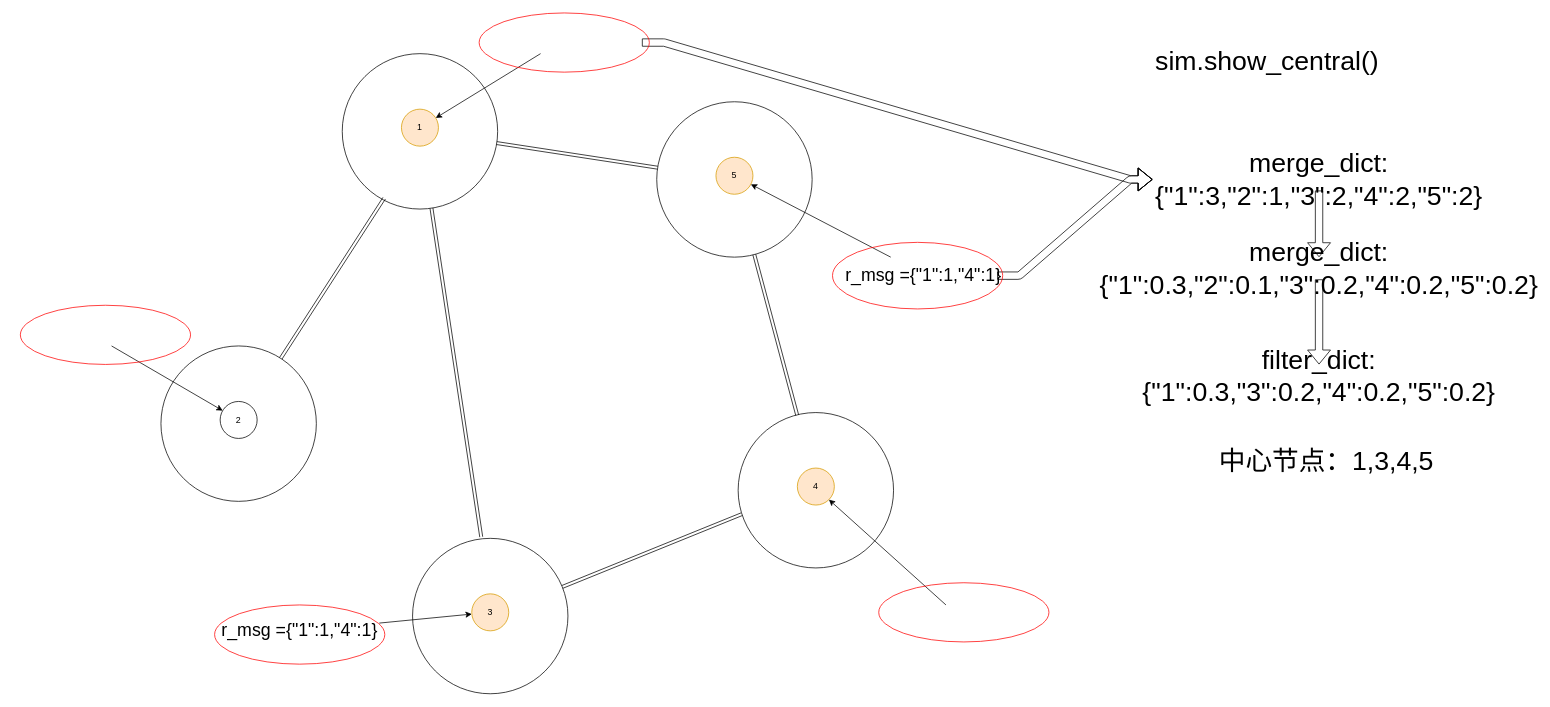
The diagram is 1550 pixels wide and 707 high, and some of its shapes have lost their labels. The shapes that lost their labels are listed below. From the top down, each one's centre as x and y in pixels, then its label:
(x=563, y=42): r_msg ={"2":1,"3":1,"5":1}
(x=105, y=334): r_msg ={"1":1}
(x=963, y=612): r_msg ={"3":1,"5":1}
